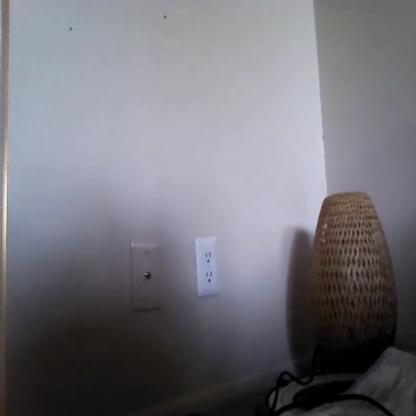OUTLET: (195, 235, 219, 296)
